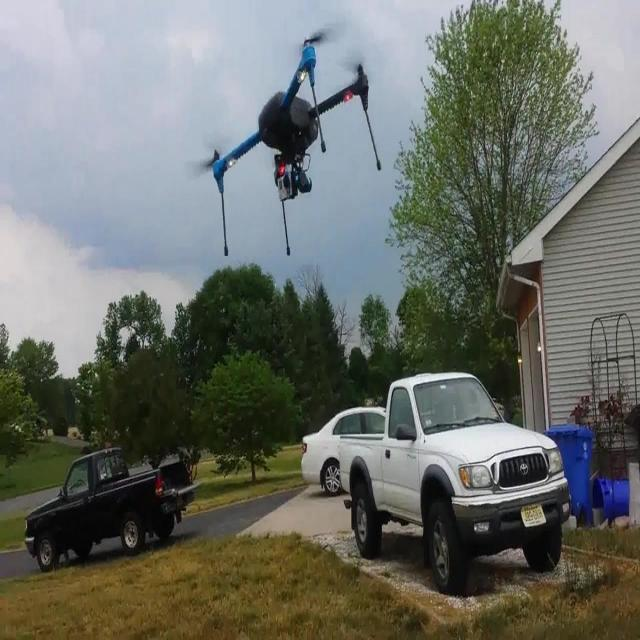UAV: (196, 24, 382, 258)
